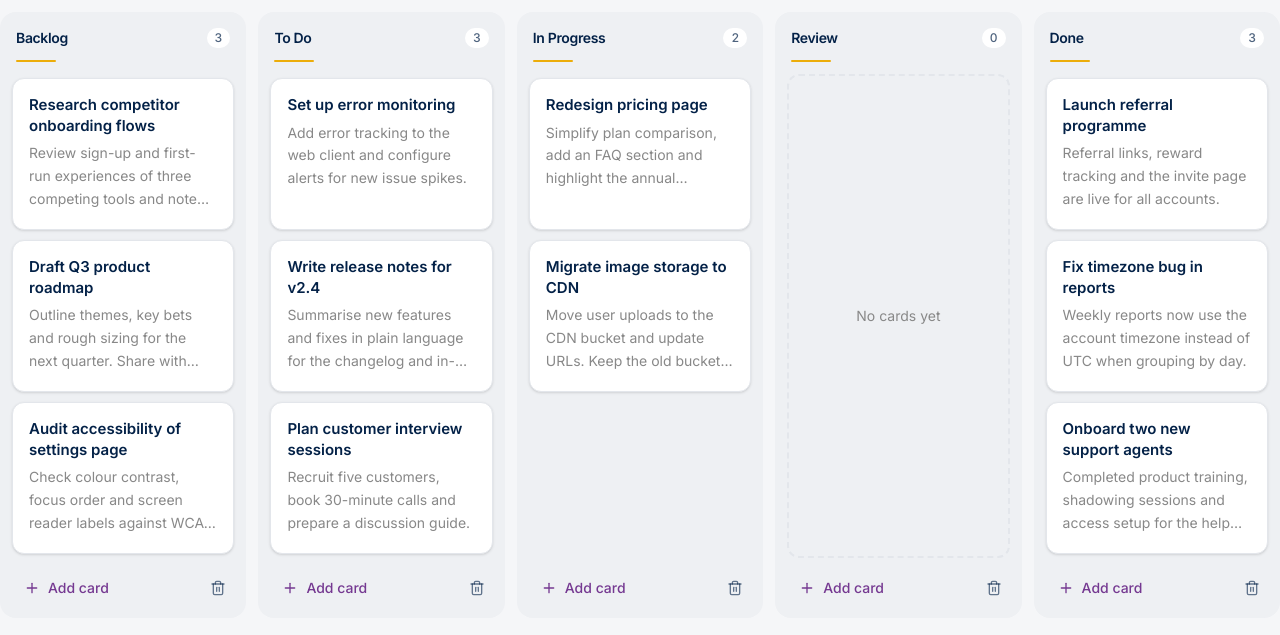
Test: Column › removes an empty column at once and keeps the last one
The width and height of the screenshot is (1280, 635).
Click the button named "Remove column: Review" at (994, 588), box [978,572,1010,604]
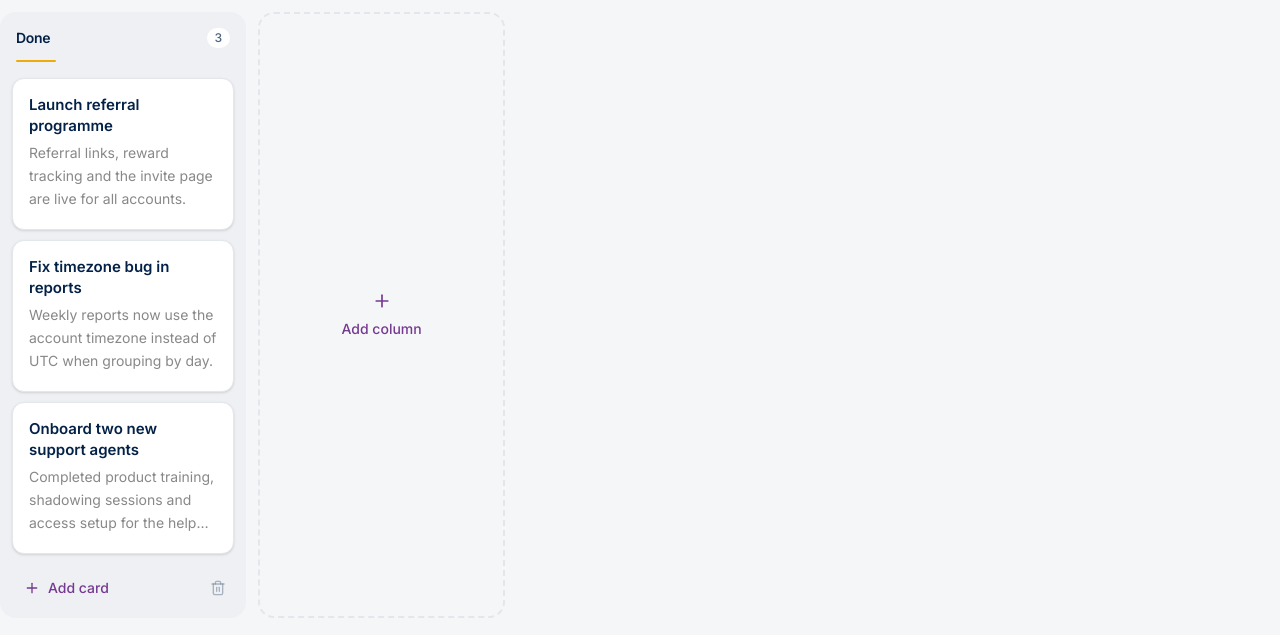
Result: the button named "Remove column: Done" is disabled at [202,572,234,604]
